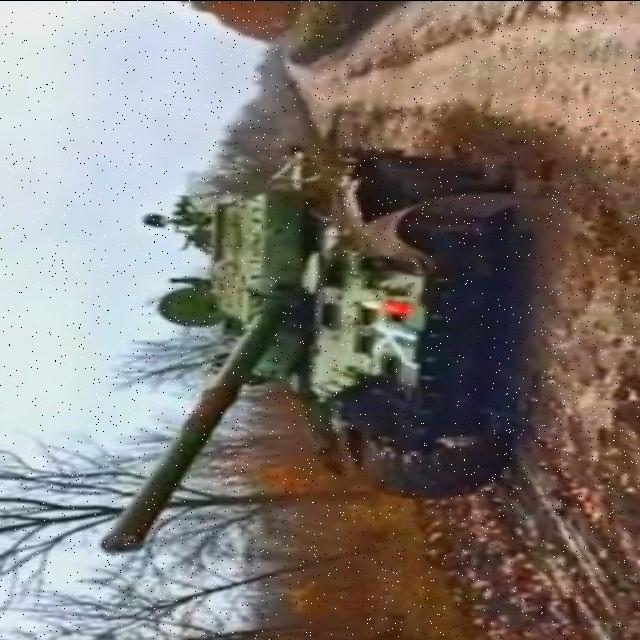TANK: (85, 123, 531, 562)
